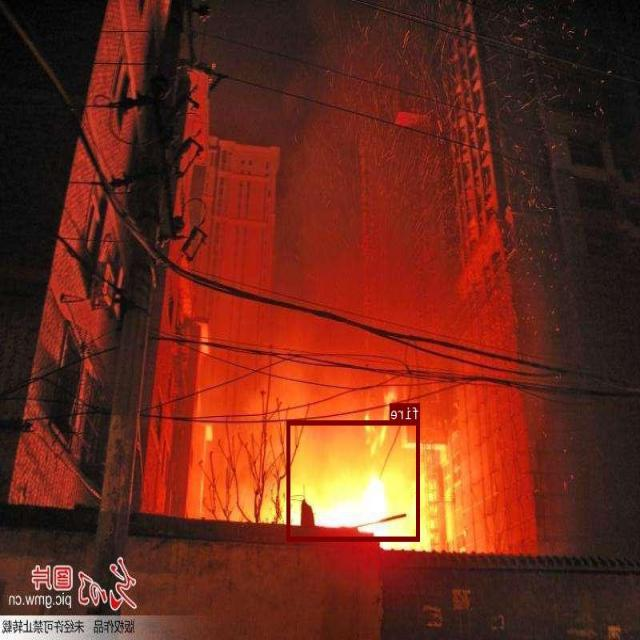fire: (288, 419, 420, 540)
